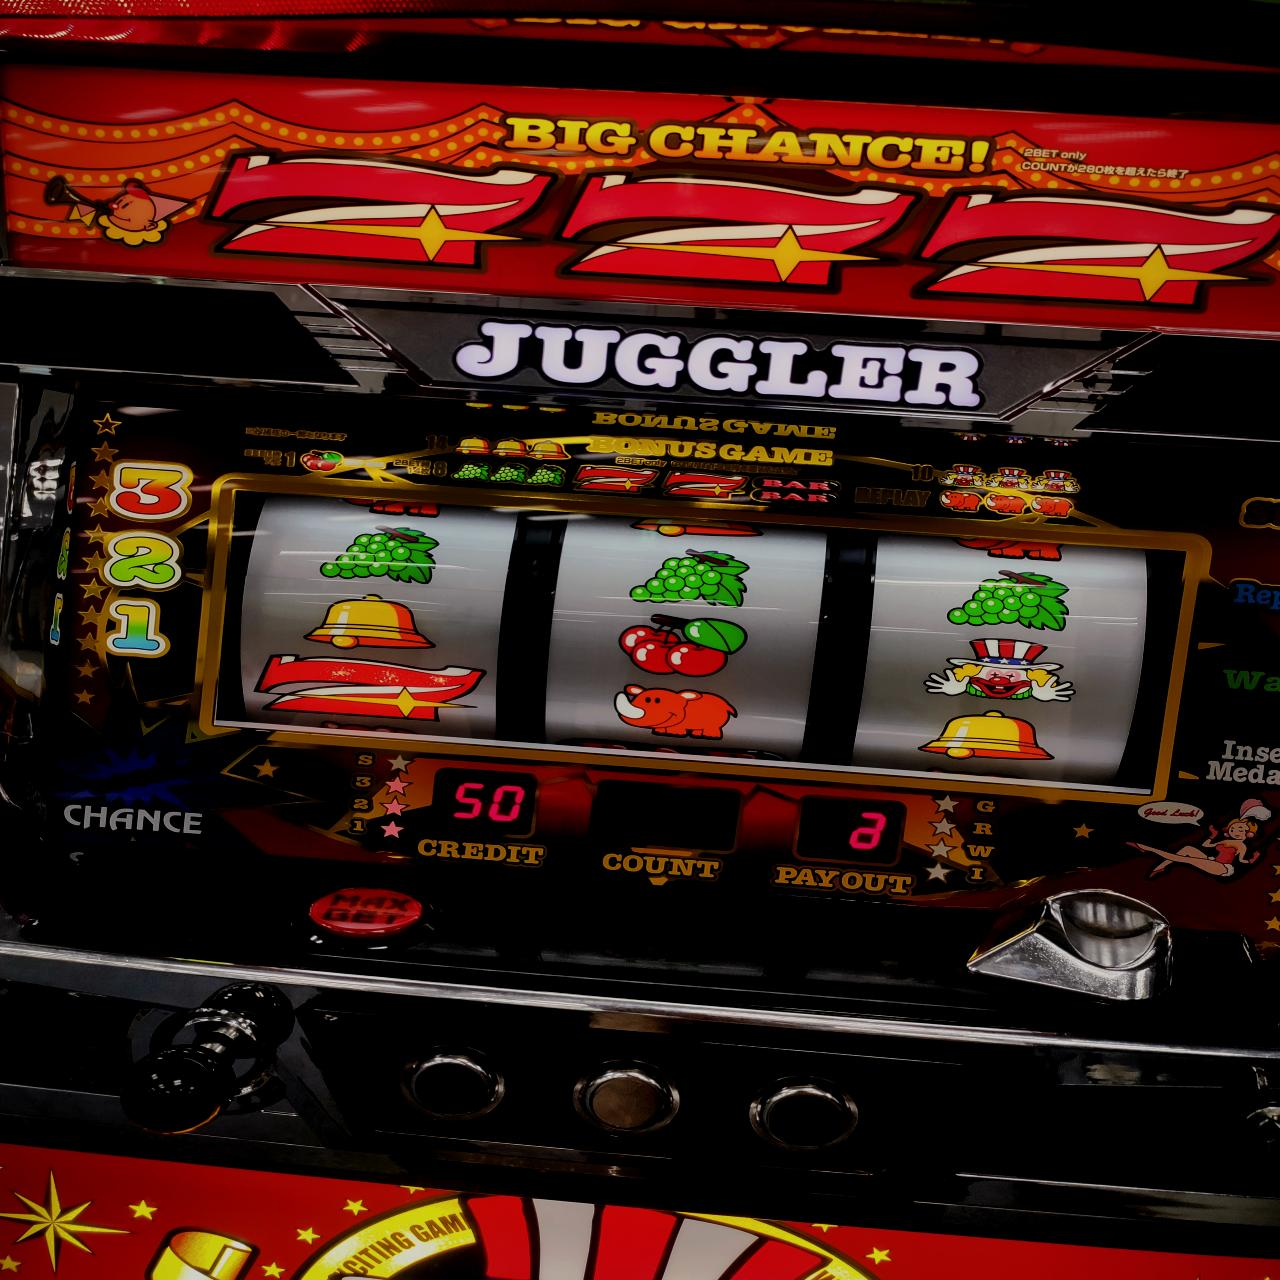7: (253, 653, 483, 723)
8: (608, 683, 738, 740)
Display: (222, 476, 1160, 795)
bell: (301, 592, 437, 652), (919, 707, 1061, 763)
cherry: (617, 612, 745, 678)
clown: (922, 633, 1078, 704)
grape: (941, 568, 1075, 633), (313, 524, 440, 587), (628, 549, 749, 607)
